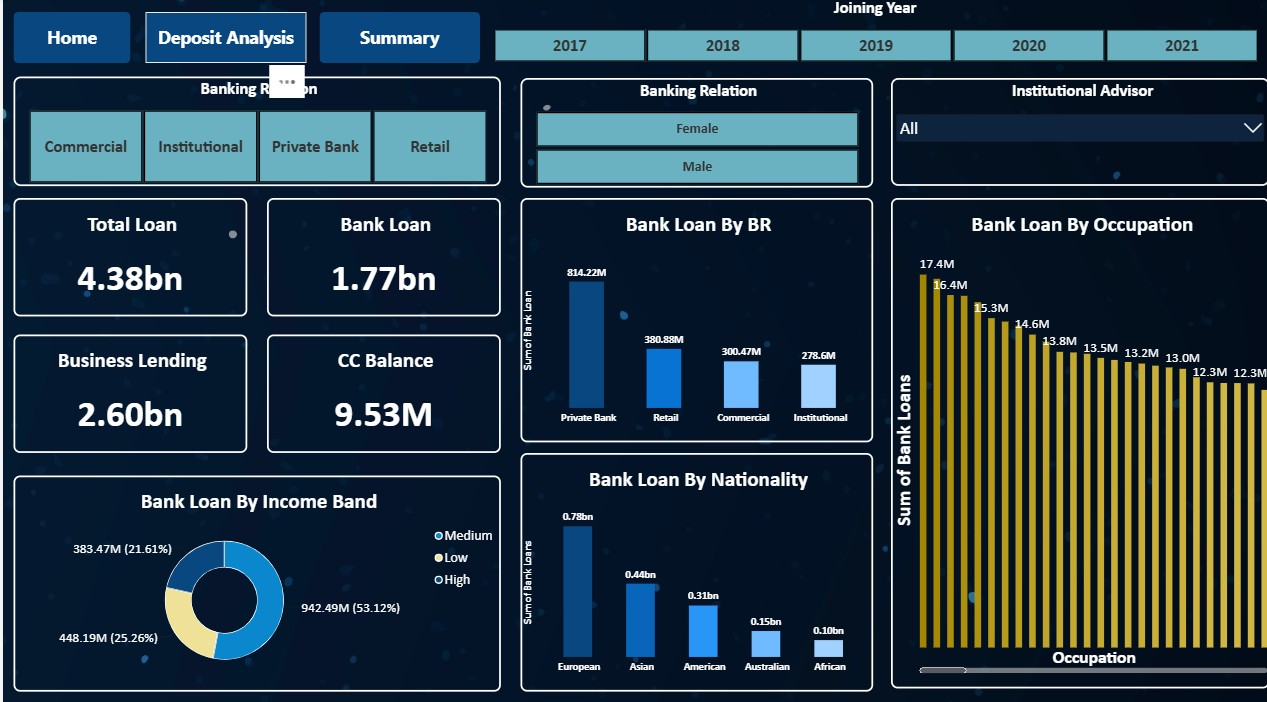

The page's visual inventory and layout, read from the dashboard file:
{"tool":"powerbi","page":{"name":"Loan Analysis","canvas":[1920,1080],"ordinal":1},"visuals":[{"type":"actionButton","box":[15.9,22.7,177.2,77.2],"z":0},{"type":"actionButton","box":[215.8,22.7,243,77.2],"z":2000},{"type":"actionButton","box":[479.2,22.7,243,77.2],"z":3000},{"type":"card","title":"Total Loan","fields":{"Values":["Banking_dataset.Total Loans"]},"box":[15.9,304.4,354.3,179.4],"z":4000,"group":"g1"},{"type":"card","title":"Business Lending","fields":{"Values":["Sum(Banking_dataset.Business Lending)"]},"box":[15.9,511,354.3,179.4],"z":4000},{"type":"card","title":"Bank Loan","fields":{"Values":["Sum(Banking_dataset.Bank Loans)"]},"box":[399.8,304.4,354.3,179.4],"z":5000,"group":"g2"},{"type":"card","title":"CC Balance","fields":{"Values":["Sum(Banking_dataset.Credit Card Balance)"]},"box":[399.8,511,354.3,179.4],"z":5000},{"type":"donutChart","title":"Bank Loan By Income Band","fields":{"Category":["Banking_dataset.Income Band"],"Y":["Sum(Banking_dataset.Bank Loans)"]},"box":[15.9,724.5,738.2,327.1],"z":6000},{"type":"columnChart","title":"Bank Loan By BR","fields":{"Category":["Banking_dataset.Banking Relationship"],"Y":["Sum(Banking_dataset.Bank Loans)"]},"box":[783.6,304.4,533.8,370.2],"z":7000},{"type":"columnChart","title":"Bank Loan By Nationality","fields":{"Category":["Banking_dataset.Nationality"],"Y":["Sum(Banking_dataset.Bank Loans)"]},"box":[783.6,690.5,533.8,361.1],"z":8000},{"type":"columnChart","title":"Bank Loan By Occupation","fields":{"Y":["Sum(Banking_dataset.Bank Loans)"],"Category":["Banking_dataset.Occupation"]},"box":[1345.3,304.4,574.6,742.7],"z":9000},{"type":"slicer","title":"Joining Year","fields":{"Values":["Banking_dataset.Year of Joining"]},"box":[722.3,0,1197,99.9],"z":10000},{"type":"slicer","title":"Banking Relation","fields":{"Values":["Banking_dataset.Banking Relationship"]},"box":[15.9,120.4,738.2,165.8],"z":11000},{"type":"slicer","title":"Banking Relation","fields":{"Values":["Banking_dataset.Gender"]},"box":[783.6,122.7,533.8,165.8],"z":12000},{"type":"slicer","title":"Institutional Advisor","fields":{"Values":["Investment Advisor.Investment Advisor"]},"box":[1344.6,122.7,574.6,163.5],"z":13000},{"type":"group","id":"g1","title":"Group 1","box":[15.9,304.4,354.3,179.4],"z":14000},{"type":"group","id":"g2","title":"Group 2","box":[399.8,304.4,354.3,179.4],"z":15000}]}

Visuals, with their boxes in screenshot pixels (x1, y1, x2, y2), scaled from the page's 1920x1080 canvas onto the 1267x702 screenshot:
actionButton: pyautogui.locateOnScreen(10, 15, 127, 65)
actionButton: pyautogui.locateOnScreen(142, 15, 303, 65)
actionButton: pyautogui.locateOnScreen(316, 15, 477, 65)
"Total Loan" card: pyautogui.locateOnScreen(10, 198, 244, 314)
"Business Lending" card: pyautogui.locateOnScreen(10, 332, 244, 449)
"Bank Loan" card: pyautogui.locateOnScreen(264, 198, 498, 314)
"CC Balance" card: pyautogui.locateOnScreen(264, 332, 498, 449)
"Bank Loan By Income Band" donutChart: pyautogui.locateOnScreen(10, 471, 498, 684)
"Bank Loan By BR" columnChart: pyautogui.locateOnScreen(517, 198, 869, 438)
"Bank Loan By Nationality" columnChart: pyautogui.locateOnScreen(517, 449, 869, 684)
"Bank Loan By Occupation" columnChart: pyautogui.locateOnScreen(888, 198, 1266, 681)
"Joining Year" slicer: pyautogui.locateOnScreen(477, 0, 1266, 65)
"Banking Relation" slicer: pyautogui.locateOnScreen(10, 78, 498, 186)
"Banking Relation" slicer: pyautogui.locateOnScreen(517, 80, 869, 188)
"Institutional Advisor" slicer: pyautogui.locateOnScreen(887, 80, 1266, 186)
"Group 1" group: pyautogui.locateOnScreen(10, 198, 244, 314)
"Group 2" group: pyautogui.locateOnScreen(264, 198, 498, 314)
